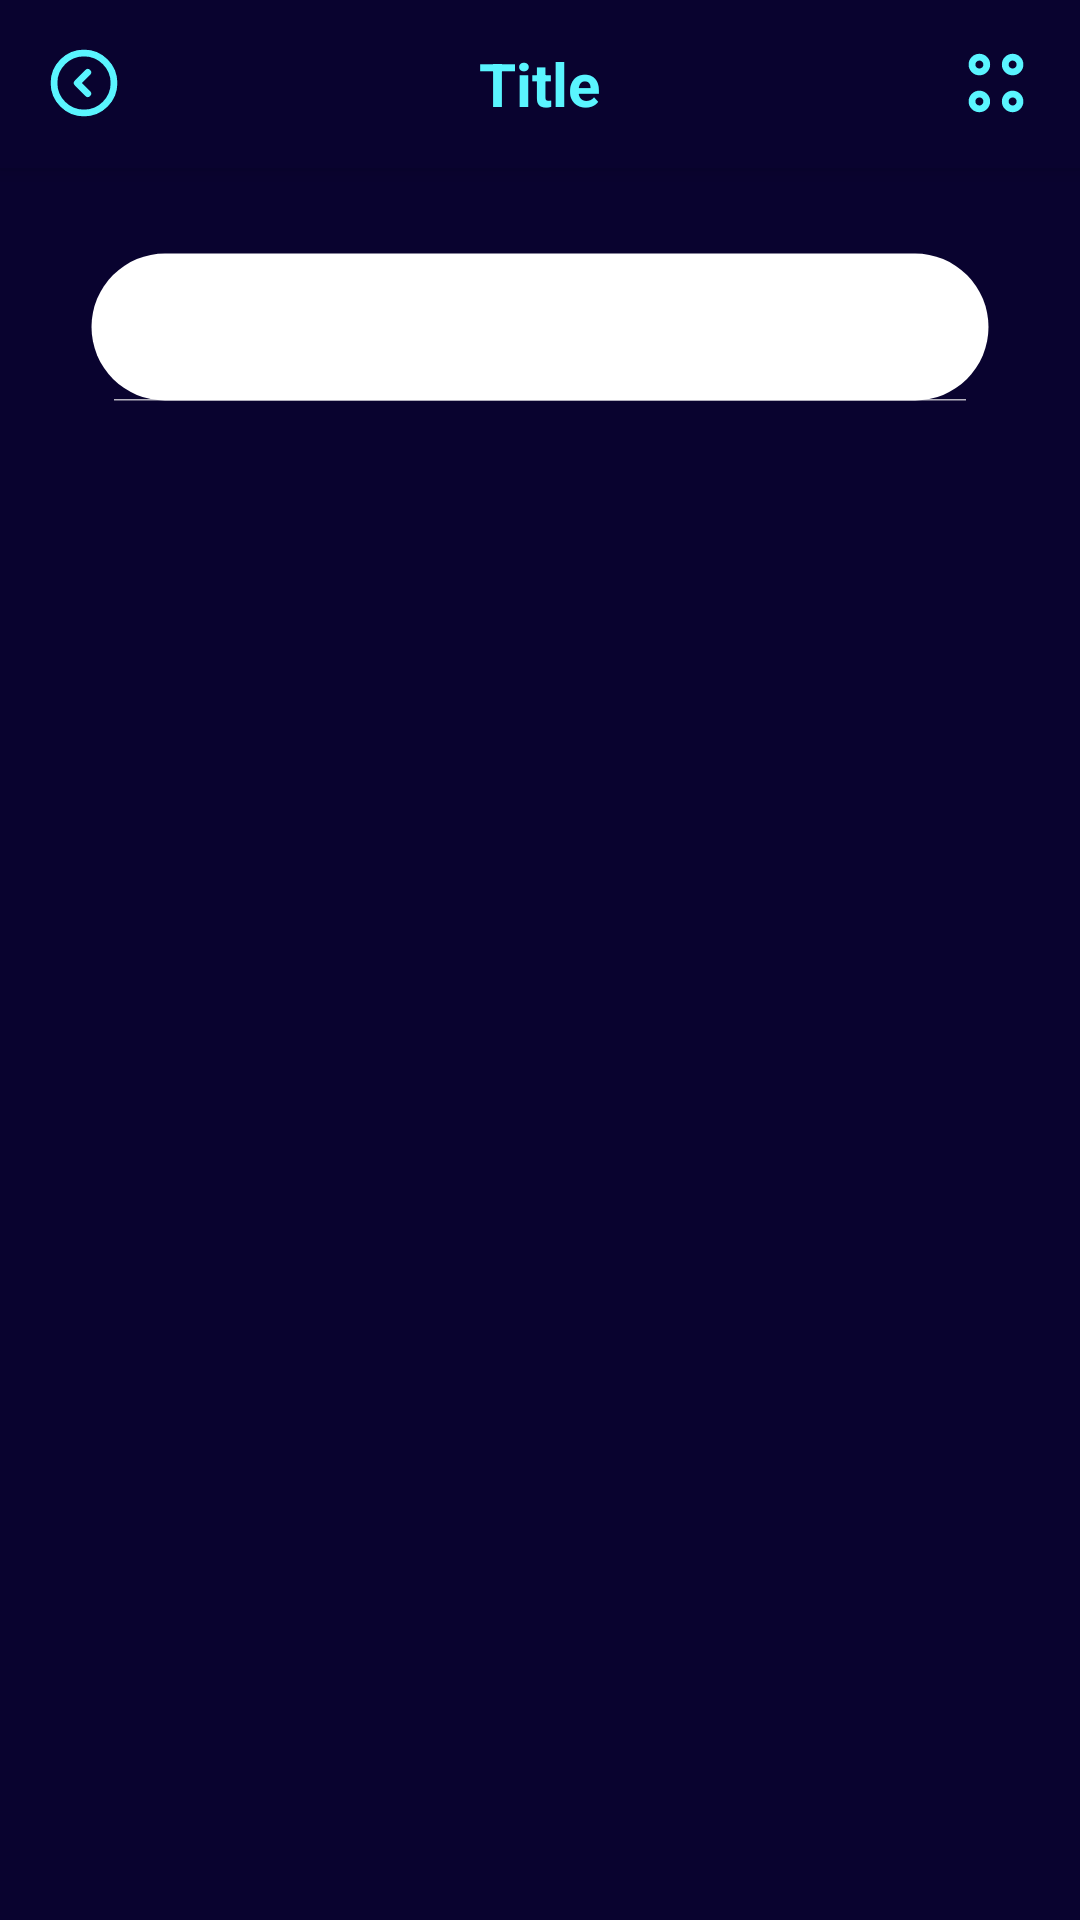

Where to tap for icons on this 1080px×1920px app screen, as (x=x, y=y):
arrow circle left: (x=84, y=83)
